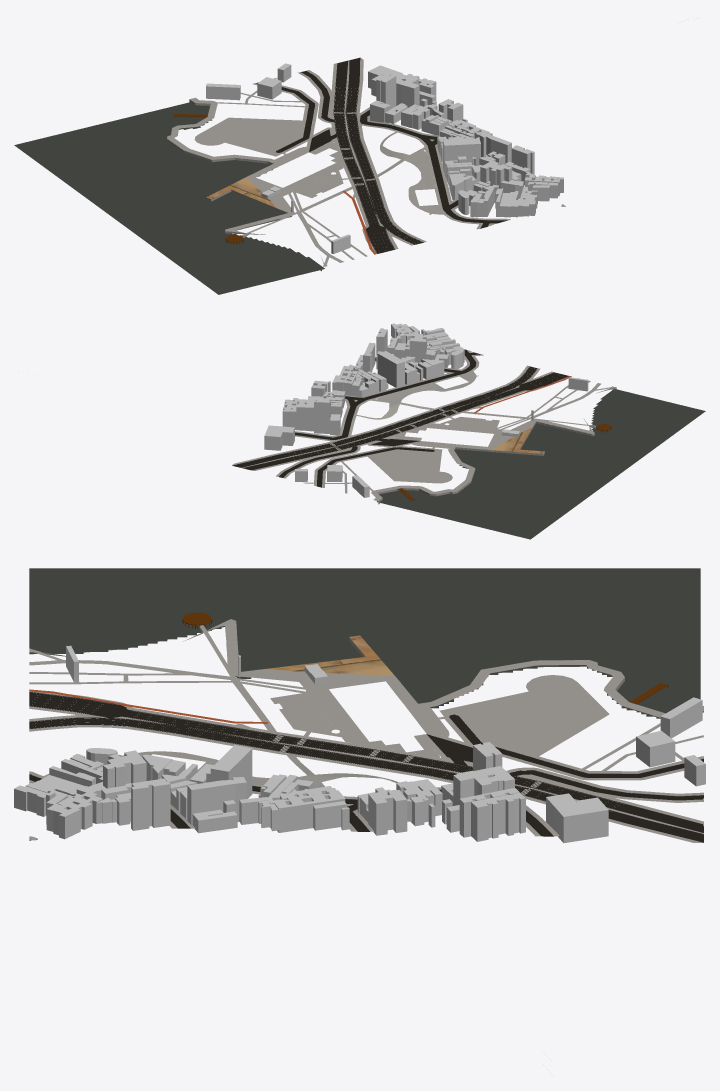
File: ENTORNO_GASOMETRO.fbx
The picture shows the model from 3 angles, top to bottom: view 1: azimuth 30°, elevation 25°; view 2: azimuth 150°, elevation 25°; view 3: azimuth 270°, elevation 25°; orthographic projection. The views are drawn at different scales.
Parts seen in each view (by area): view 1: Guaiba_Agua, Edificacoes_OSM, Passeios_Pracas, Ruas_Avenidas, Calcadas, Esplanada_Usina, Cais_Muro; view 2: Guaiba_Agua, Edificacoes_OSM, Passeios_Pracas, Ruas_Avenidas, Calcadas, Esplanada_Usina, Cais_Muro; view 3: Guaiba_Agua, Edificacoes_OSM, Passeios_Pracas, Ruas_Avenidas, Calcadas, Esplanada_Usina, Meio_Fio, Sinalizacao_Branca.
Part boxes in pixels (x1=…): Guaiba_Agua: x1=14, y1=102, x2=324, y2=294; Edificacoes_OSM: x1=206, y1=63, x2=563, y2=254; Passeios_Pracas: x1=167, y1=77, x2=448, y2=266; Ruas_Avenidas: x1=256, y1=57, x2=565, y2=253; Calcadas: x1=252, y1=57, x2=564, y2=253; Esplanada_Usina: x1=246, y1=142, x2=344, y2=193; Cais_Muro: x1=167, y1=99, x2=321, y2=271; Guaiba_Agua: x1=377, y1=389, x2=705, y2=539; Edificacoes_OSM: x1=264, y1=323, x2=588, y2=497; Passeios_Pracas: x1=303, y1=369, x2=615, y2=500; Ruas_Avenidas: x1=232, y1=349, x2=569, y2=487; Calcadas: x1=232, y1=350, x2=569, y2=487; Esplanada_Usina: x1=392, y1=423, x2=513, y2=449; Cais_Muro: x1=377, y1=421, x2=594, y2=504; Guaiba_Agua: x1=29, y1=568, x2=700, y2=718; Edificacoes_OSM: x1=14, y1=645, x2=705, y2=843; Passeios_Pracas: x1=29, y1=619, x2=703, y2=788; Ruas_Avenidas: x1=29, y1=692, x2=703, y2=842; Calcadas: x1=29, y1=691, x2=703, y2=842; Esplanada_Usina: x1=305, y1=673, x2=449, y2=757; Meio_Fio: x1=30, y1=626, x2=703, y2=840; Sinalizacao_Branca: x1=30, y1=692, x2=617, y2=1076.
Size of the model in its own units: 745 by 45.75 by 420.
